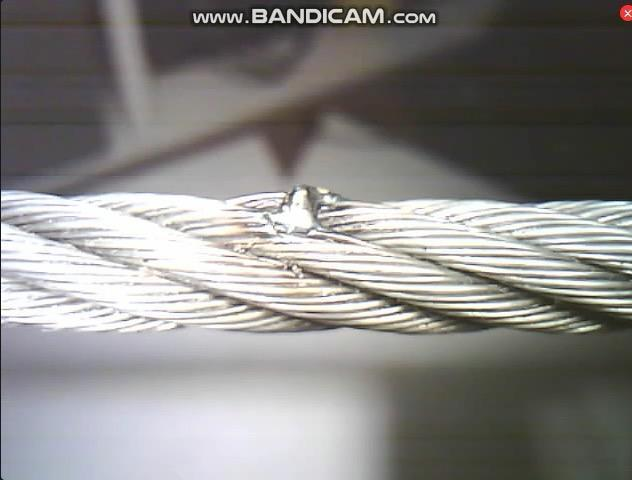thunderbolt: (242, 183, 356, 243)
